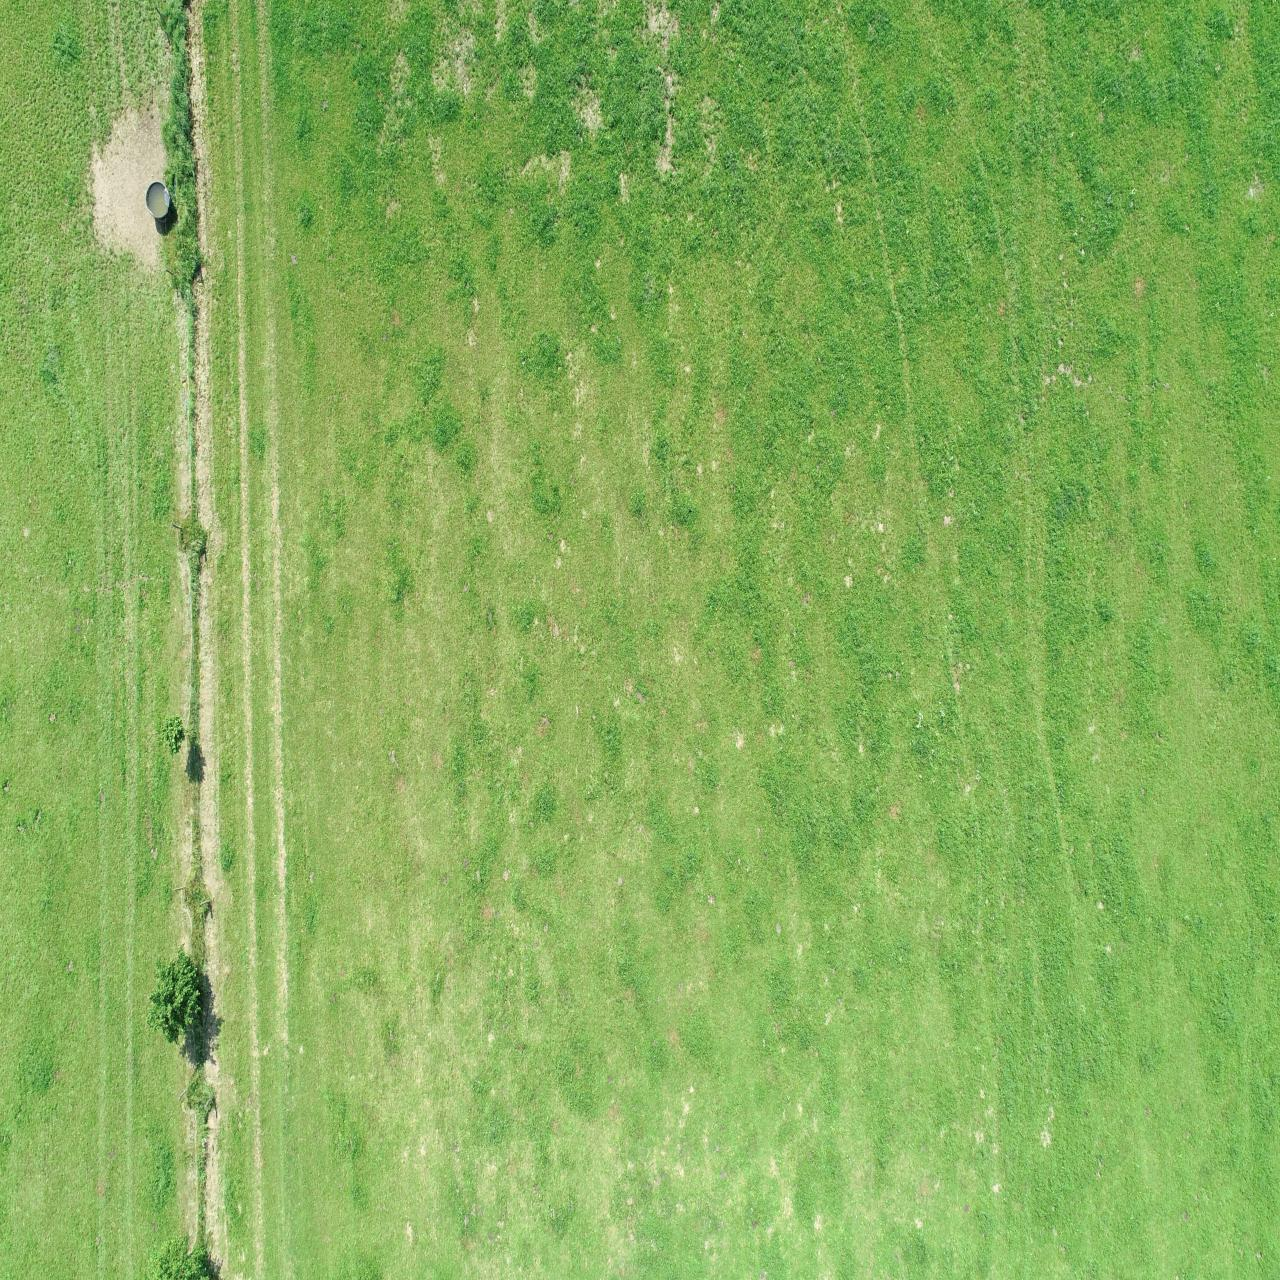cow: (765, 101, 790, 157), (729, 263, 755, 308), (717, 306, 748, 342), (735, 209, 768, 240)
